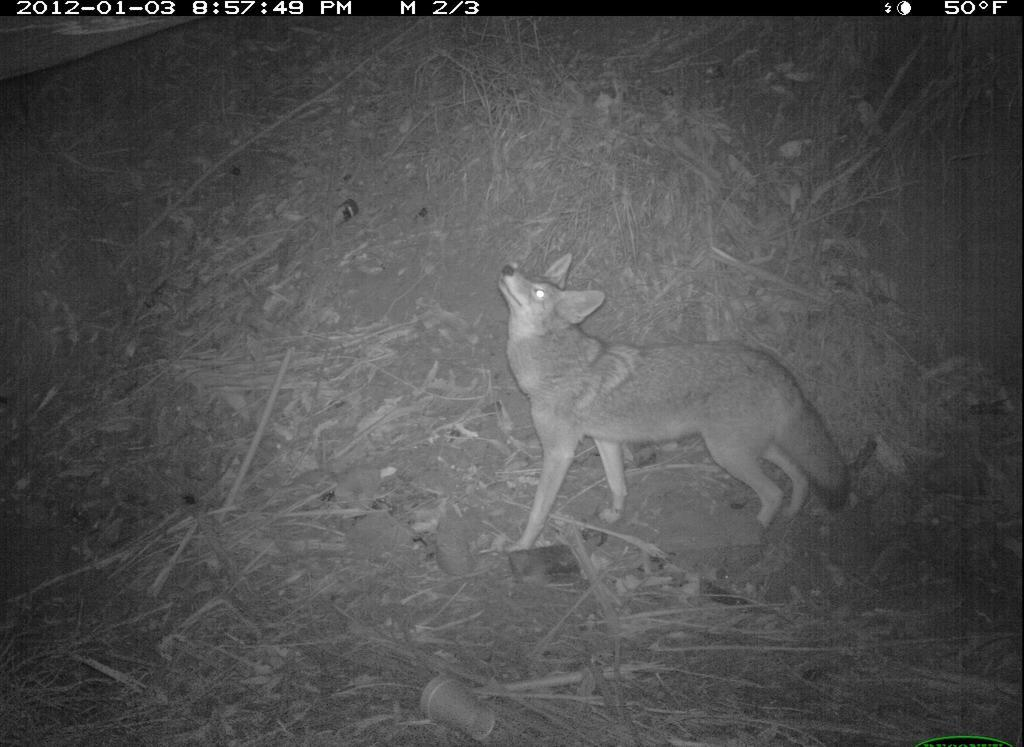coyote: (463, 239, 861, 565)
